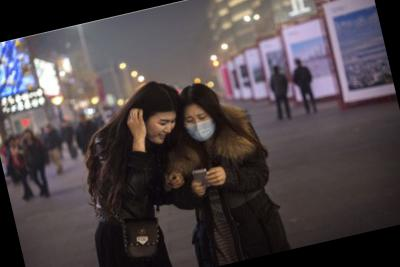with_mask: (181, 107, 219, 145)
without_mask: (144, 114, 183, 148)
